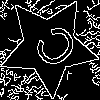C: (24, 20, 81, 78)
